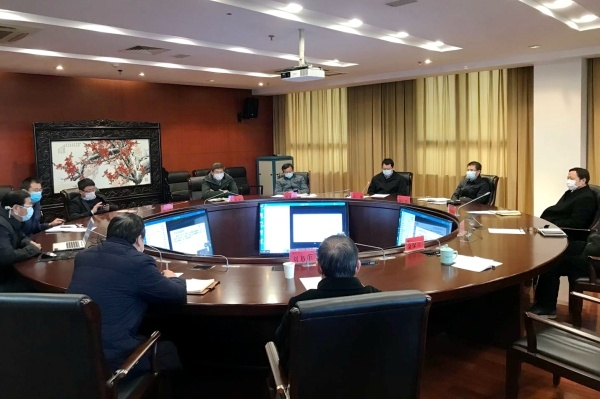correctlyWear: (567, 166, 591, 193), (10, 199, 33, 221), (26, 184, 42, 204), (80, 183, 97, 200), (466, 166, 480, 180), (382, 164, 395, 178), (213, 167, 225, 180), (284, 168, 295, 179)
